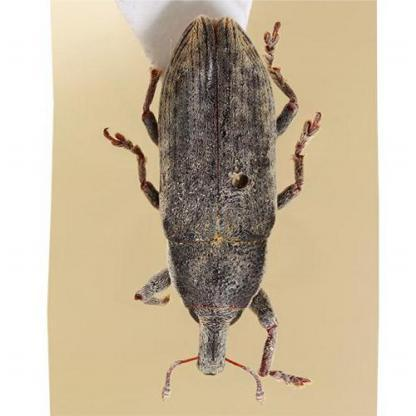rice-bug: (132, 14, 326, 385)
